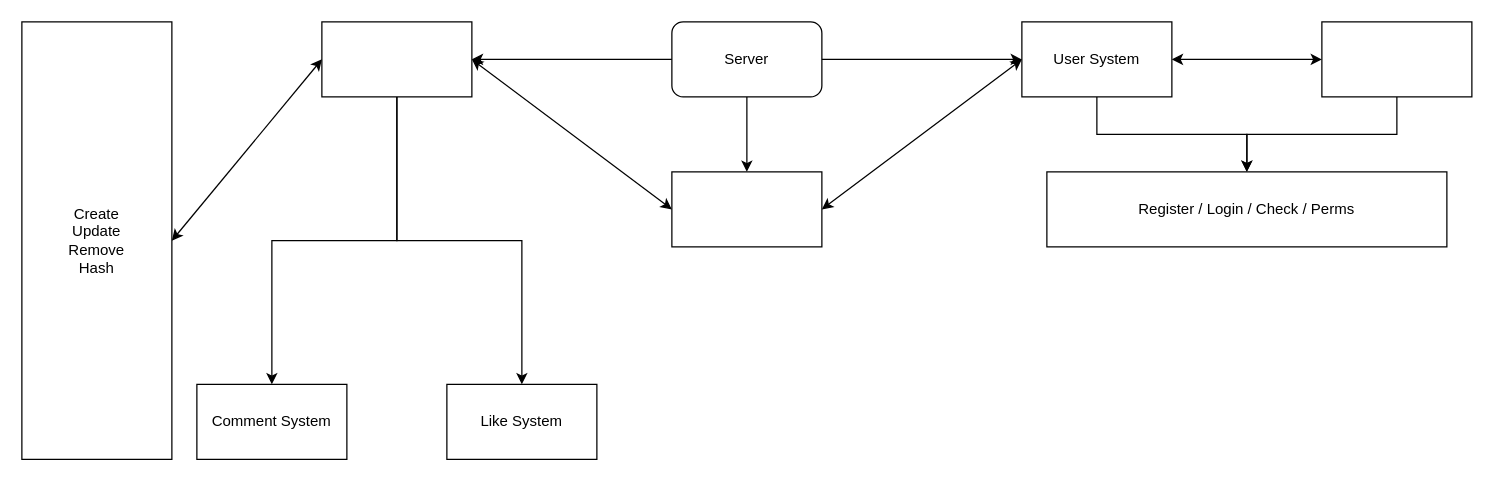
The diagram is 1494 pixels wide and 481 high, and some of its shapes have lost their labels. The box of each missing label's shape, as (x1, y1, x2, y2) in pixels:
Blog System: (321, 21, 472, 97)
Database: (671, 171, 822, 247)
JWT: (1321, 21, 1472, 97)
